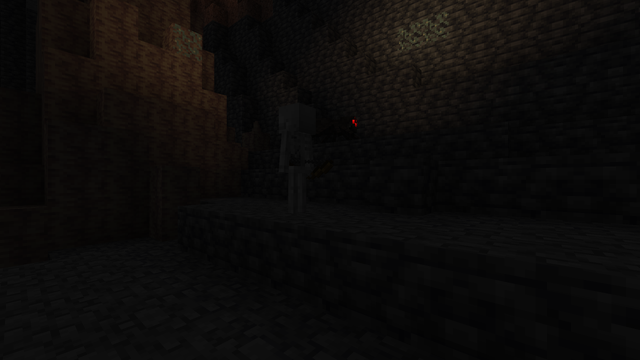araignees: (324, 109, 363, 142)
squelettes: (275, 101, 319, 214)
